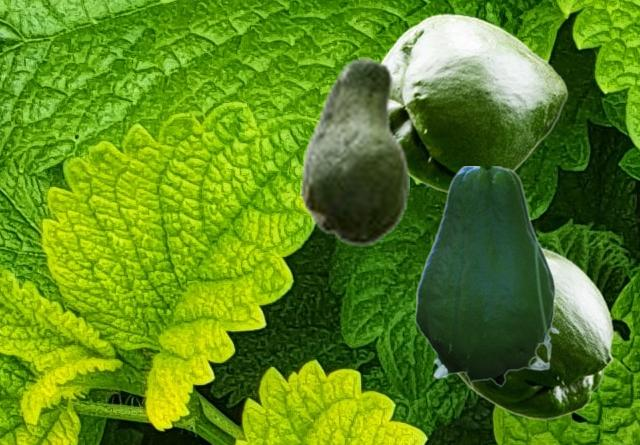sayote: (380, 13, 567, 193), (414, 166, 559, 390), (455, 245, 613, 419), (300, 57, 408, 246)
